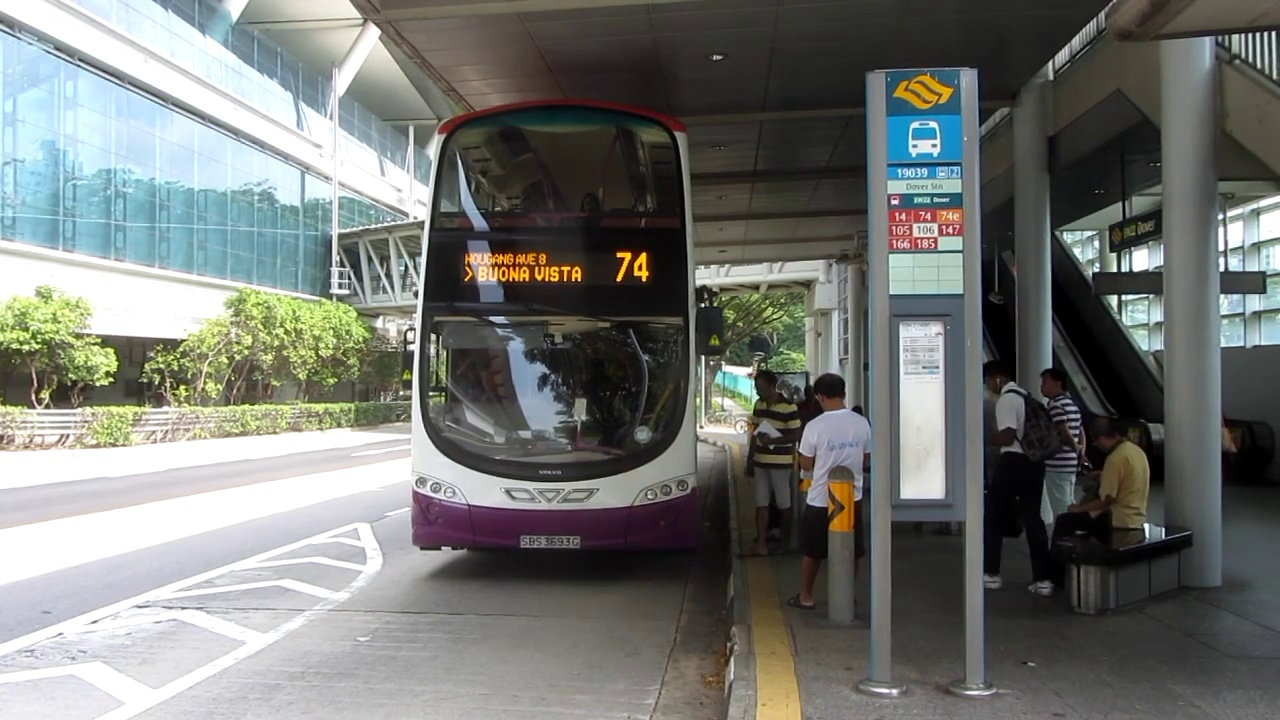bus panel: (456, 245, 658, 290)
